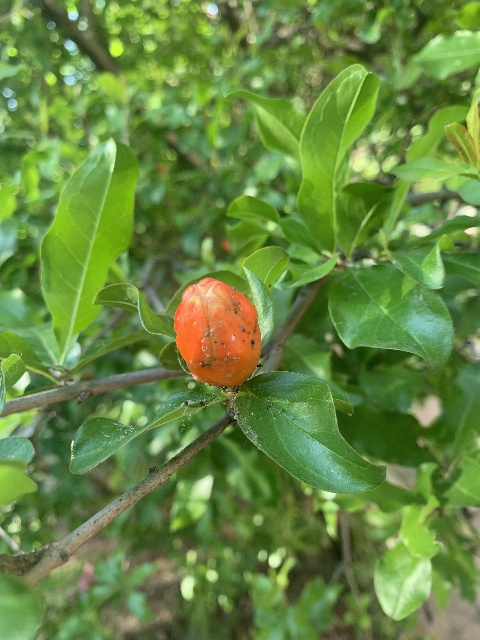bud: (174, 277, 260, 388)
